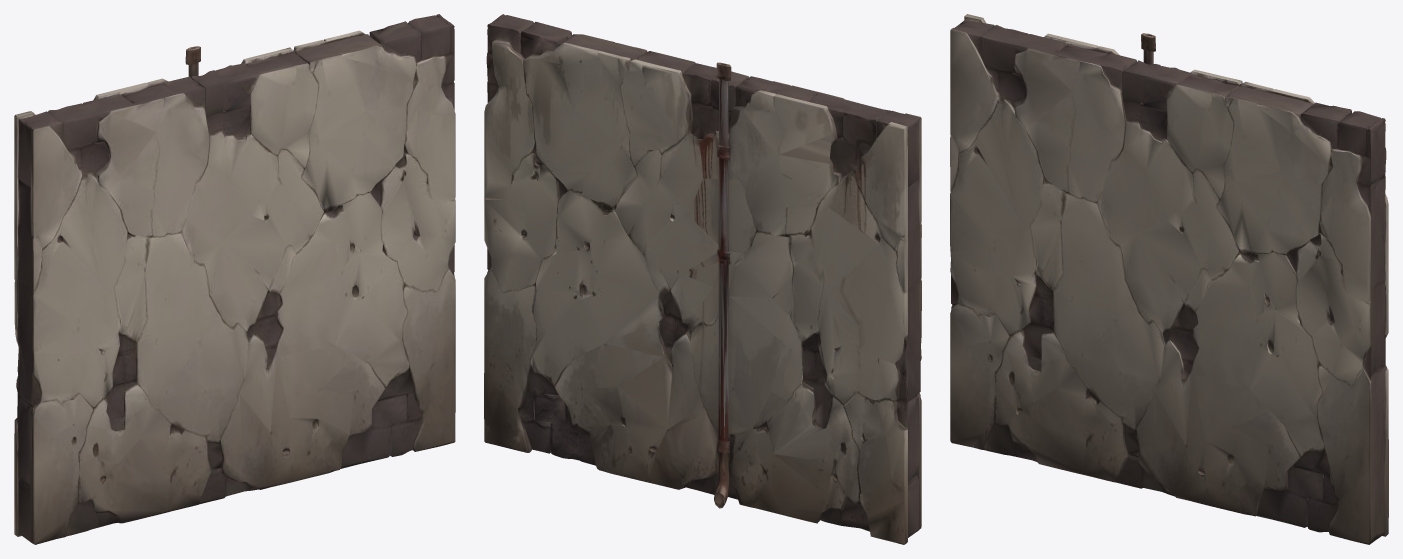
Rendered from finish_concrete_damaged_idle.glb.
The picture shows the model from 3 angles, left to right: view 1: azimuth 30°, elevation 25°; view 2: azimuth 150°, elevation 25°; view 3: azimuth 330°, elevation 25°; orthographic projection.
Parts seen in each view (by area): view 1: tripo_node_daeeb8d5-e7c5-46a9-af41-da3b7c0fd450; view 2: tripo_node_daeeb8d5-e7c5-46a9-af41-da3b7c0fd450; view 3: tripo_node_daeeb8d5-e7c5-46a9-af41-da3b7c0fd450.
Part boxes in pixels (x1,y1,x2,y2): tripo_node_daeeb8d5-e7c5-46a9-af41-da3b7c0fd450: (14, 14, 455, 544); tripo_node_daeeb8d5-e7c5-46a9-af41-da3b7c0fd450: (484, 14, 921, 544); tripo_node_daeeb8d5-e7c5-46a9-af41-da3b7c0fd450: (950, 14, 1388, 544).
Size of the model in its own units: 1 by 1 by 0.0998.
Materials: 1 (1 with a texture image).
